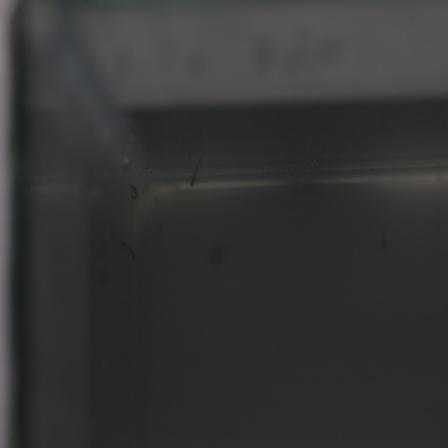Jentik-Nyamuk: (185, 145, 209, 190)
